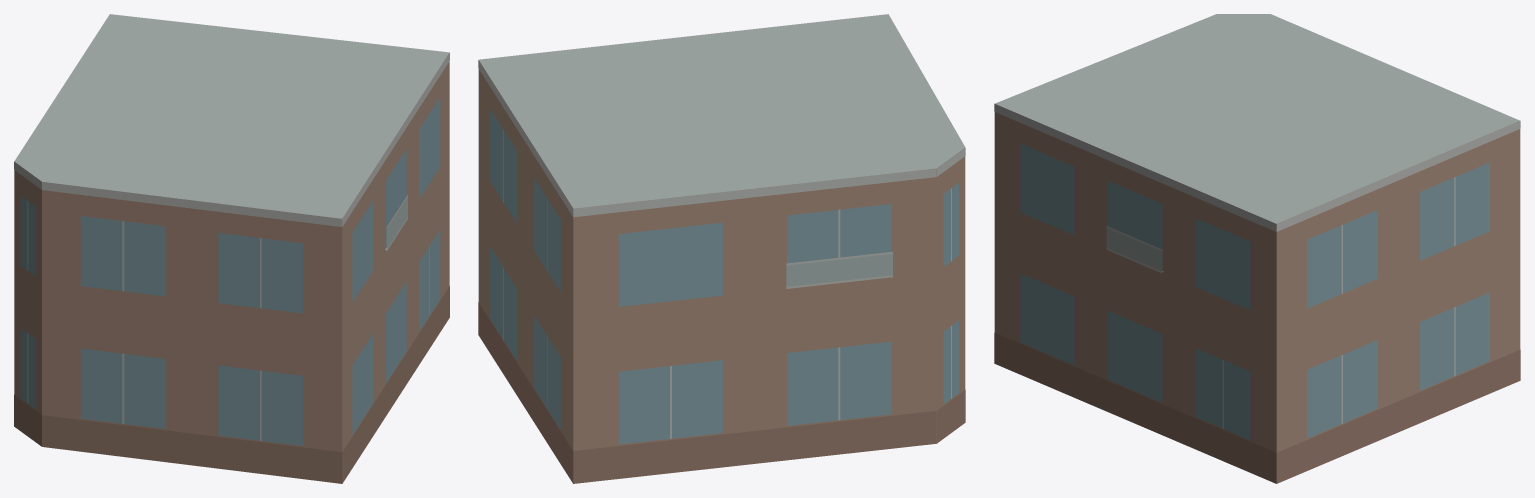
The model's file is survey-upis-32750096.glb.
The picture shows the model from 3 angles, left to right: view 1: azimuth 30°, elevation 25°; view 2: azimuth 150°, elevation 25°; view 3: azimuth 270°, elevation 25°; orthographic projection. The views are drawn at different scales.
Visible parts, largest first — view 1: survey-upis-32750096.tmp; view 2: survey-upis-32750096.tmp; view 3: survey-upis-32750096.tmp.
Part boxes in pixels (x1=…): survey-upis-32750096.tmp: x1=14, y1=14, x2=449, y2=483; survey-upis-32750096.tmp: x1=478, y1=14, x2=965, y2=483; survey-upis-32750096.tmp: x1=994, y1=14, x2=1520, y2=483.
Size of the model in its own units: 13.52 by 7.8 by 14.3.
